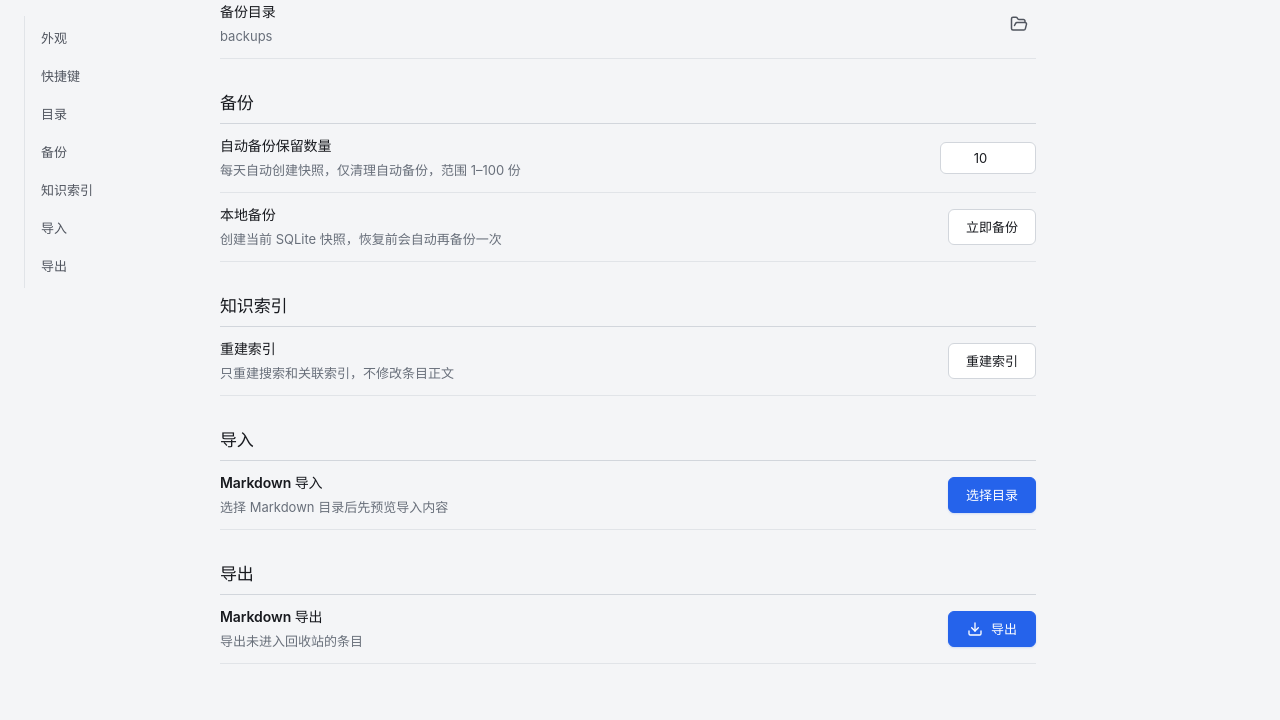
Test case: SettingsView › reports when the search index is unavailable
The image size is (1280, 720).
(page scrolled)
Click the button with aria-label "重建知识索引". click: (992, 361)
box: [948, 343, 1036, 379]
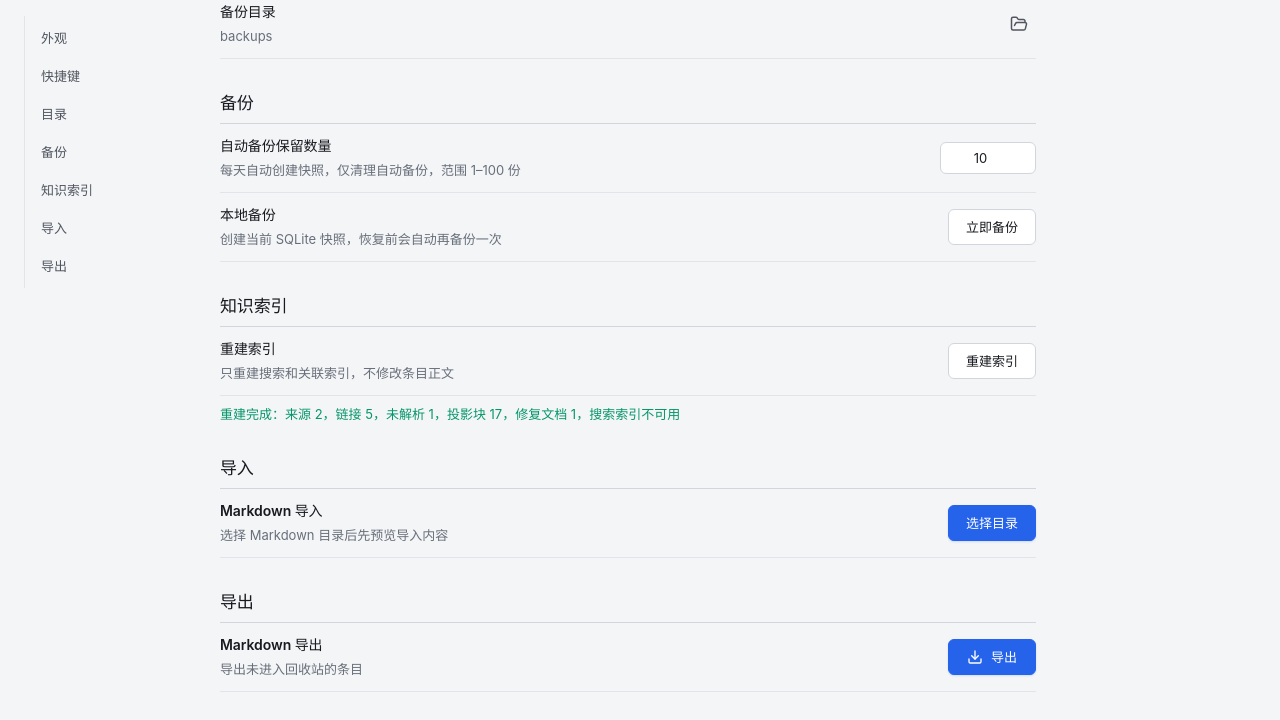
Expected: the text "搜索索引不可用" is shown, [220, 406, 680, 422]
